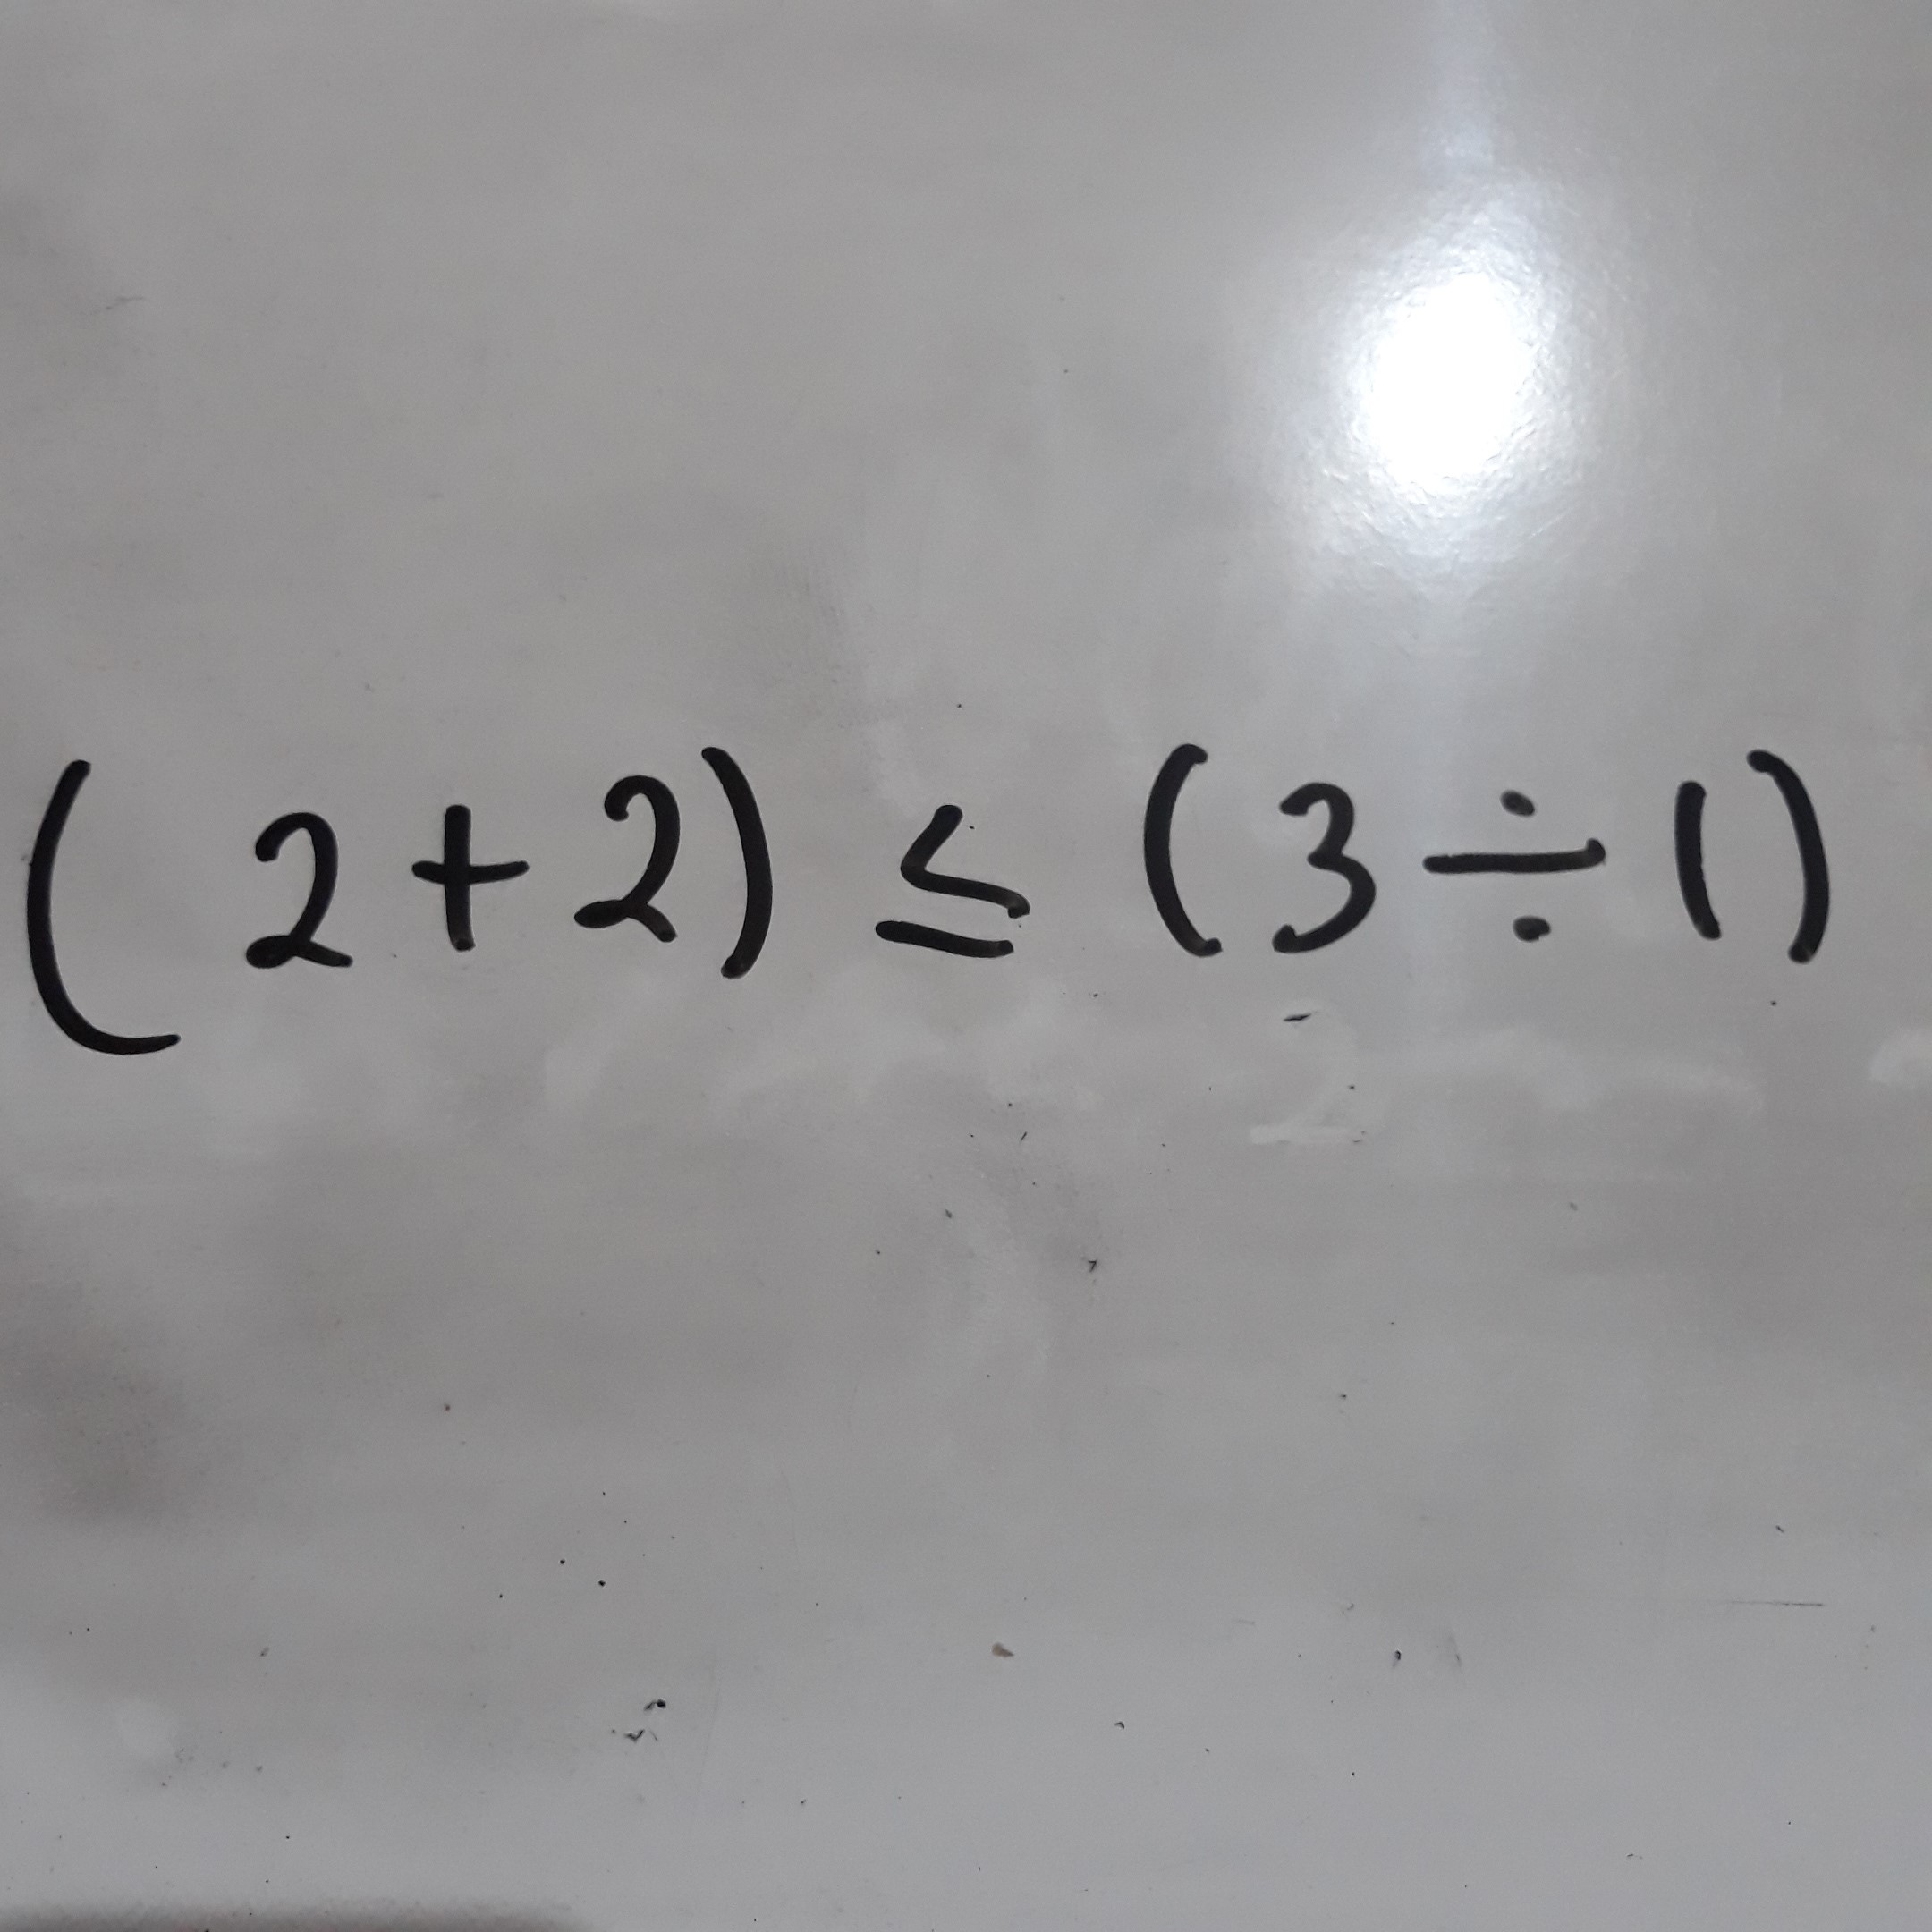closebracket: (691, 724, 794, 1002), (1748, 715, 1849, 983)
div: (1419, 755, 1620, 953)
lessthan-equal: (854, 789, 1047, 973)
num1: (1648, 756, 1733, 961)
num2: (215, 799, 373, 990), (558, 761, 708, 953)
num3: (1265, 765, 1388, 970)
openbracket: (10, 742, 181, 1067), (1127, 730, 1234, 971)
sum: (392, 776, 541, 968)
